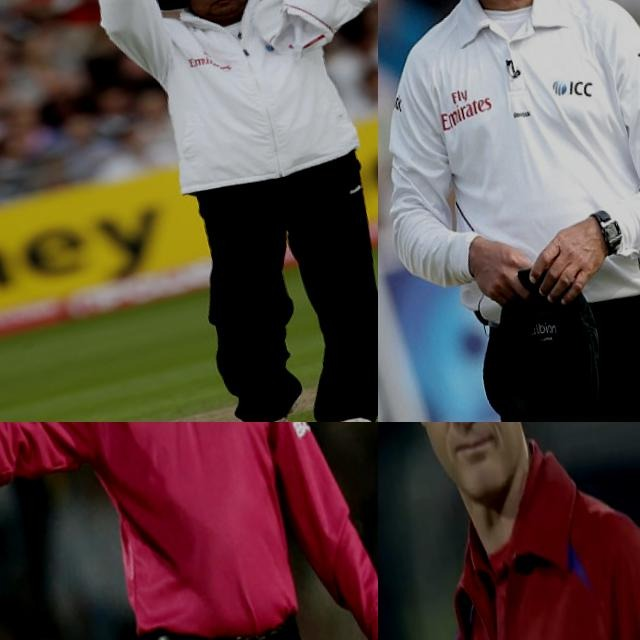No_Action: (378, 0, 640, 422), (378, 422, 640, 640)
No_Ball: (0, 422, 378, 640)
Six: (38, 0, 378, 422)
